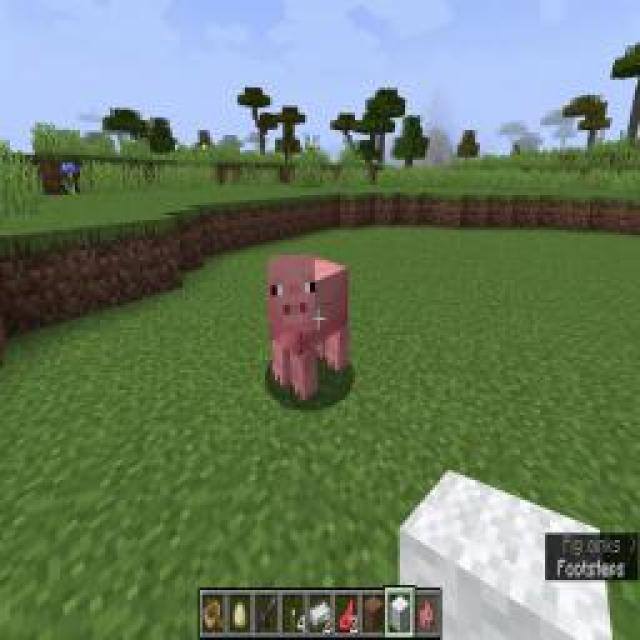Pig: (264, 248, 351, 408)
